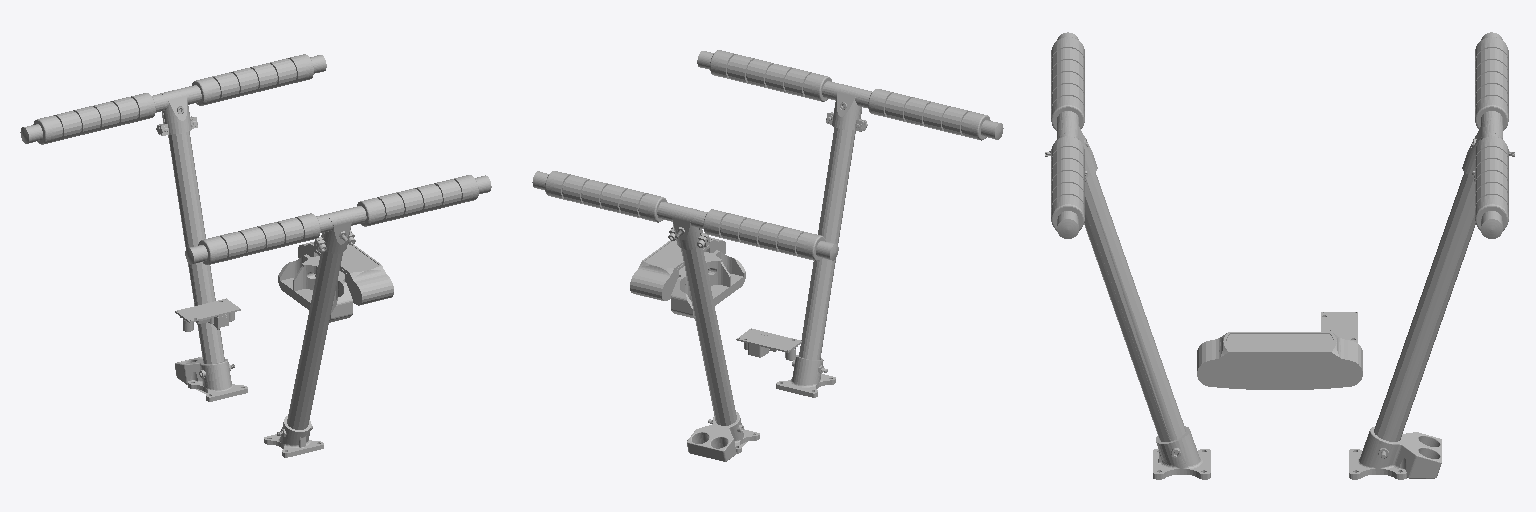
robot.urdf — holybro_drone_assembly:
<?xml version="1.0" encoding="utf-8"?>
<!-- This URDF was automatically created by SolidWorks to URDF Exporter! Originally created by Stephen Brawner (brawner@gmail.com) 
     Commit Version: 1.6.0-4-g7f85cfe  Build Version: 1.6.7995.38578
     For more information, please see http://wiki.ros.org/sw_urdf_exporter -->
<robot
  name="holybro_drone_assembly">
  <link
    name="base_footprint">
    <inertial>
      <origin
        xyz="1.70708560839171E-08 -7.0726367034816E-05 -0.158250915780836"
        rpy="0 0 0" />
      <mass
        value="0.296919523990479" />
      <inertia
        ixx="0.000122760650980985"
        ixy="3.74660141842933E-05"
        ixz="-2.44805848871957E-12"
        iyy="0.000208680900177811"
        iyz="1.97455521230761E-12"
        izz="0.000253889730180627" />
    </inertial>
    <visual>
      <origin
        xyz="0 0 0"
        rpy="0 0 0" />
      <geometry>
        <mesh
          filename="package://x500_description/meshes/visual/base_footprint.STL" />
      </geometry>
      <material
        name="">
        <color
          rgba="0.752941176470588 0.752941176470588 0.752941176470588 1" />
      </material>
    </visual>
    <collision>
      <origin
        xyz="0 0 0"
        rpy="0 0 0" />
      <geometry>
        <mesh
          filename="package://x500_description/meshes/visual/base_footprint.STL" />
      </geometry>
    </collision>
  </link>
  <link
    name="base_link">
    <inertial>
      <origin
        xyz="-0.000123174712956691 -0.000194646216458284 0.015635472724649"
        rpy="0 0 0" />
      <mass
        value="0.0752275868088825" />
      <inertia
        ixx="0.000117175477865718"
        ixy="-4.77355971598773E-07"
        ixz="2.71663076677385E-08"
        iyy="0.000110446473809526"
        iyz="-9.16150140646993E-10"
        izz="0.000227544483789822" />
    </inertial>
    <visual>
      <origin
        xyz="0 0 0"
        rpy="0 0 0" />
      <geometry>
        <mesh
          filename="package://x500_description/meshes/visual/base_link.STL" />
      </geometry>
      <material
        name="">
        <color
          rgba="0.752941176470588 0.752941176470588 0.752941176470588 1" />
      </material>
    </visual>
    <collision>
      <origin
        xyz="0 0 0"
        rpy="0 0 0" />
      <geometry>
        <mesh
          filename="package://x500_description/meshes/visual/base_link.STL" />
      </geometry>
    </collision>
  </link>
  <joint
    name="base_joint"
    type="fixed">
    <origin
      xyz="0 0 -0.137"
      rpy="-3.14159265358979 0 0" />
    <parent
      link="base_footprint" />
    <child
      link="base_link" />
    <axis
      xyz="0 0 0" />
  </joint>
  <link
    name="base_ned_link">
    <inertial>
      <origin
        xyz="-0.0186125258152506 0.0334994996893091 -0.00640428661982994"
        rpy="0 0 0" />
      <mass
        value="0.00437682945739925" />
      <inertia
        ixx="8.43560178506833E-08"
        ixy="2.01801712933614E-09"
        ixz="-1.34462898307878E-10"
        iyy="2.13380538681956E-07"
        iyz="-7.76739491418283E-11"
        izz="2.54206551224094E-07" />
    </inertial>
    <visual>
      <origin
        xyz="0 0 0"
        rpy="0 0 0" />
      <geometry>
        <mesh
          filename="package://x500_description/meshes/visual/base_ned_link.STL" />
      </geometry>
      <material
        name="">
        <color
          rgba="0.752941176470588 0.752941176470588 0.752941176470588 1" />
      </material>
    </visual>
    <collision>
      <origin
        xyz="0 0 0"
        rpy="0 0 0" />
      <geometry>
        <mesh
          filename="package://x500_description/meshes/visual/base_ned_link.STL" />
      </geometry>
    </collision>
  </link>
  <joint
    name="base_ned_joint"
    type="fixed">
    <origin
      xyz="0 0 0"
      rpy="3.14159265358979 0 0" />
    <parent
      link="base_link" />
    <child
      link="base_ned_link" />
    <axis
      xyz="0 0 0" />
  </joint>
  <link
    name="body_link">
    <inertial>
      <origin
        xyz="-0.0997185432070198 -0.0113045785602763 -0.388367857102464"
        rpy="0 0 0" />
      <mass
        value="16.5303129418879" />
      <inertia
        ixx="0.205112268505964"
        ixy="4.2543440952297E-08"
        ixz="-1.4905643207457E-08"
        iyy="0.204322438940928"
        iyz="1.1512573499987E-07"
        izz="0.152406165330519" />
    </inertial>
    <visual>
      <origin
        xyz="0 0 0"
        rpy="0 0 0" />
      <geometry>
        <mesh
          filename="package://x500_description/meshes/visual/body_link.STL" />
      </geometry>
      <material
        name="">
        <color
          rgba="0.752941176470588 0.752941176470588 0.752941176470588 1" />
      </material>
    </visual>
    <collision>
      <origin
        xyz="0 0 0"
        rpy="0 0 0" />
      <geometry>
        <mesh
          filename="package://x500_description/meshes/visual/body_link.STL" />
      </geometry>
    </collision>
  </link>
  <joint
    name="body_joint"
    type="fixed">
    <origin
      xyz="0 0 0.0461"
      rpy="0 0 0" />
    <parent
      link="base_link" />
    <child
      link="body_link" />
    <axis
      xyz="0 0 0" />
  </joint>
  <link
    name="camera_link">
    <inertial>
      <origin
        xyz="4.40270705101162E-07 0.00599487662600104 -0.0146941694531467"
        rpy="0 0 0" />
      <mass
        value="0.0727080976862257" />
      <inertia
        ixx="6.17265982731044E-06"
        ixy="-2.27916755014924E-12"
        ixz="-3.34242664287011E-11"
        iyy="4.39095219738262E-05"
        iyz="2.69223358516939E-07"
        izz="4.42759215433994E-05" />
    </inertial>
    <visual>
      <origin
        xyz="0 0 0"
        rpy="0 0 0" />
      <geometry>
        <mesh
          filename="package://x500_description/meshes/visual/camera_link.STL" />
      </geometry>
      <material
        name="">
        <color
          rgba="0.752941176470588 0.752941176470588 0.752941176470588 1" />
      </material>
    </visual>
    <collision>
      <origin
        xyz="0 0 0"
        rpy="0 0 0" />
      <geometry>
        <mesh
          filename="package://x500_description/meshes/visual/camera_link.STL" />
      </geometry>
    </collision>
  </link>
  <joint
    name="camera_joint"
    type="fixed">
    <origin
      xyz="0.07546095994 0 -0.0330999999999999"
      rpy="3.14159265358979 0 -1.57079632679489" />
    <parent
      link="base_link" />
    <child
      link="camera_link" />
    <axis
      xyz="0 0 0" />
  </joint>
</robot>

--- Facts derived from the render (not from the file) ---
3 views of the same robot in one strip: view 1: azimuth 30°, elevation 25°; view 2: azimuth 150°, elevation 25°; view 3: azimuth 270°, elevation 25° (orthographic).
Robot: holybro_drone_assembly — 5 links, 4 joints (4 fixed); root link base_footprint; default pose: every joint at zero.
Visible links, largest first — view 1: base_footprint, camera_link, base_ned_link; view 2: base_footprint, camera_link, base_ned_link; view 3: base_footprint, camera_link, base_ned_link.
Link boxes in pixels (x1,y1,x2,y2): base_footprint: (20,54,491,457); camera_link: (278,241,393,322); base_ned_link: (175,298,240,331); base_footprint: (532,50,1003,461); camera_link: (630,237,745,318); base_ned_link: (736,328,801,360); base_footprint: (1045,32,1514,479); camera_link: (1197,332,1362,389); base_ned_link: (1321,312,1357,342).
Bounding box of the posed robot: 0.252 × 0.2666 × 0.2163 m (x, y, z).
Meshes: 5 distinct files referenced, 3 mesh visuals loaded (3 binary STL); not drawn: 2 (reference not matched to a file when rendering).
